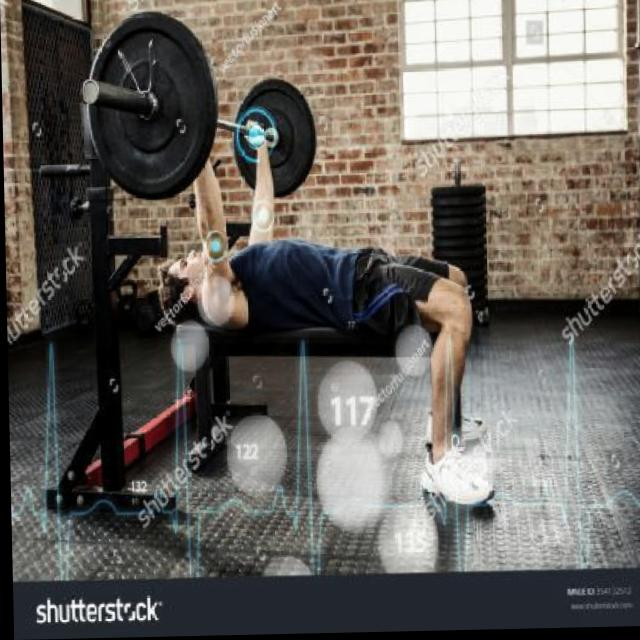barbell: (80, 14, 224, 208)
